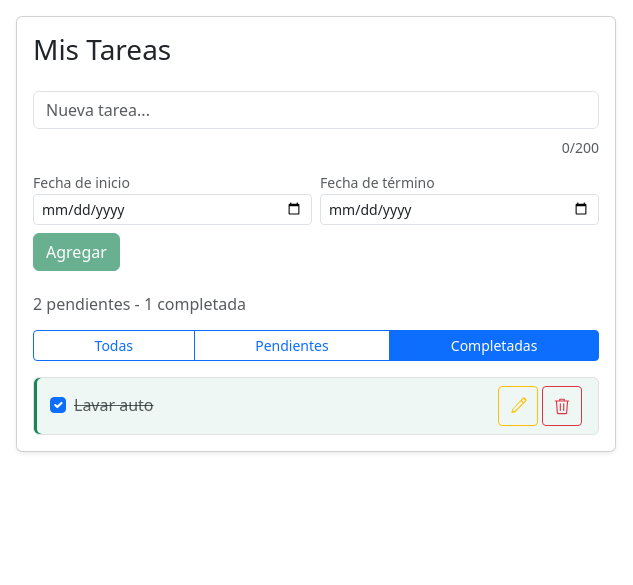
Test case: "Completadas" shows only the completed tasks, and "Todas" brings them all back
Earlier steps of the test are not shown.
Expected: the text "Lavar auto" is shown, top-left (74, 394), bottom-right (154, 416)
Expected: the text "Comprar pan" is not shown
Click the radio button labelled "Todas" at (40, 336), box top-left (33, 330), bottom-right (46, 343)
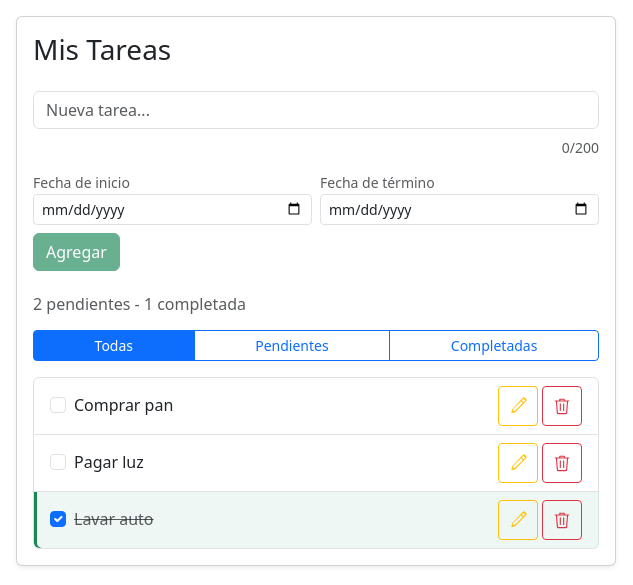
Expected: the text "Lavar auto" is shown, top-left (74, 508), bottom-right (154, 530)
Now the text "Comprar pan" is shown, box top-left (74, 394), bottom-right (173, 416)
Now the text "Pagar luz" is shown, box top-left (74, 451), bottom-right (144, 473)
